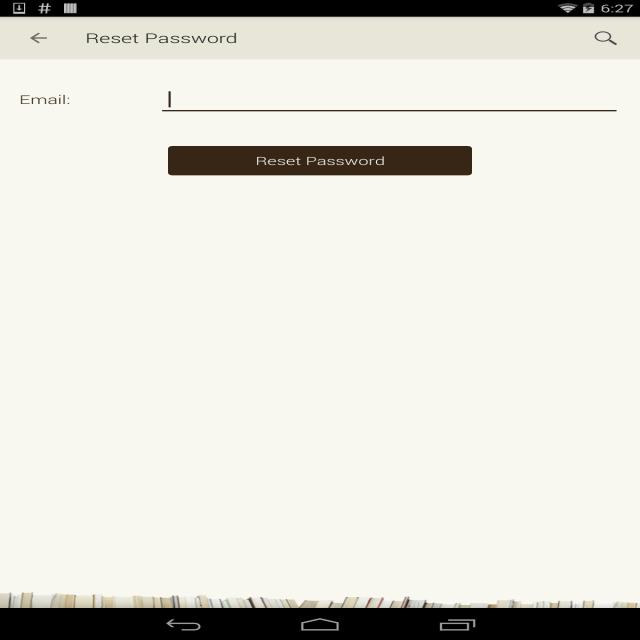button: (170, 146, 471, 174), (21, 26, 56, 50), (593, 28, 621, 56)
field: (160, 84, 624, 114)
heading: (82, 31, 246, 46)
label: (15, 94, 75, 108)
